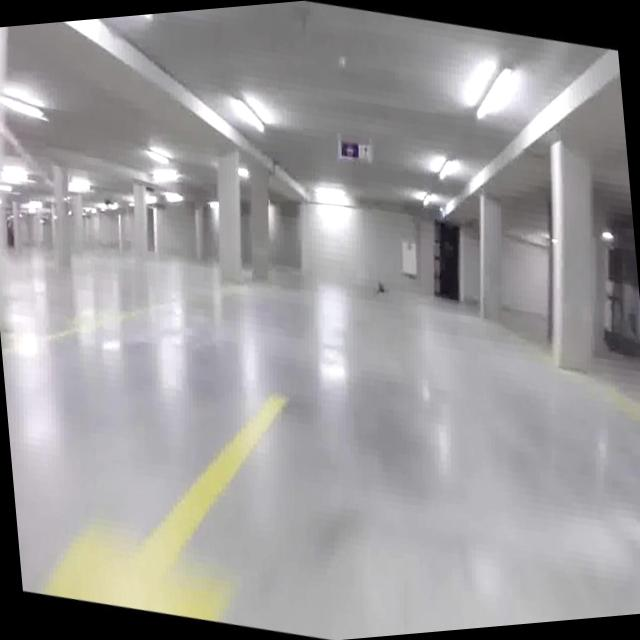drone: (370, 272, 390, 303)
